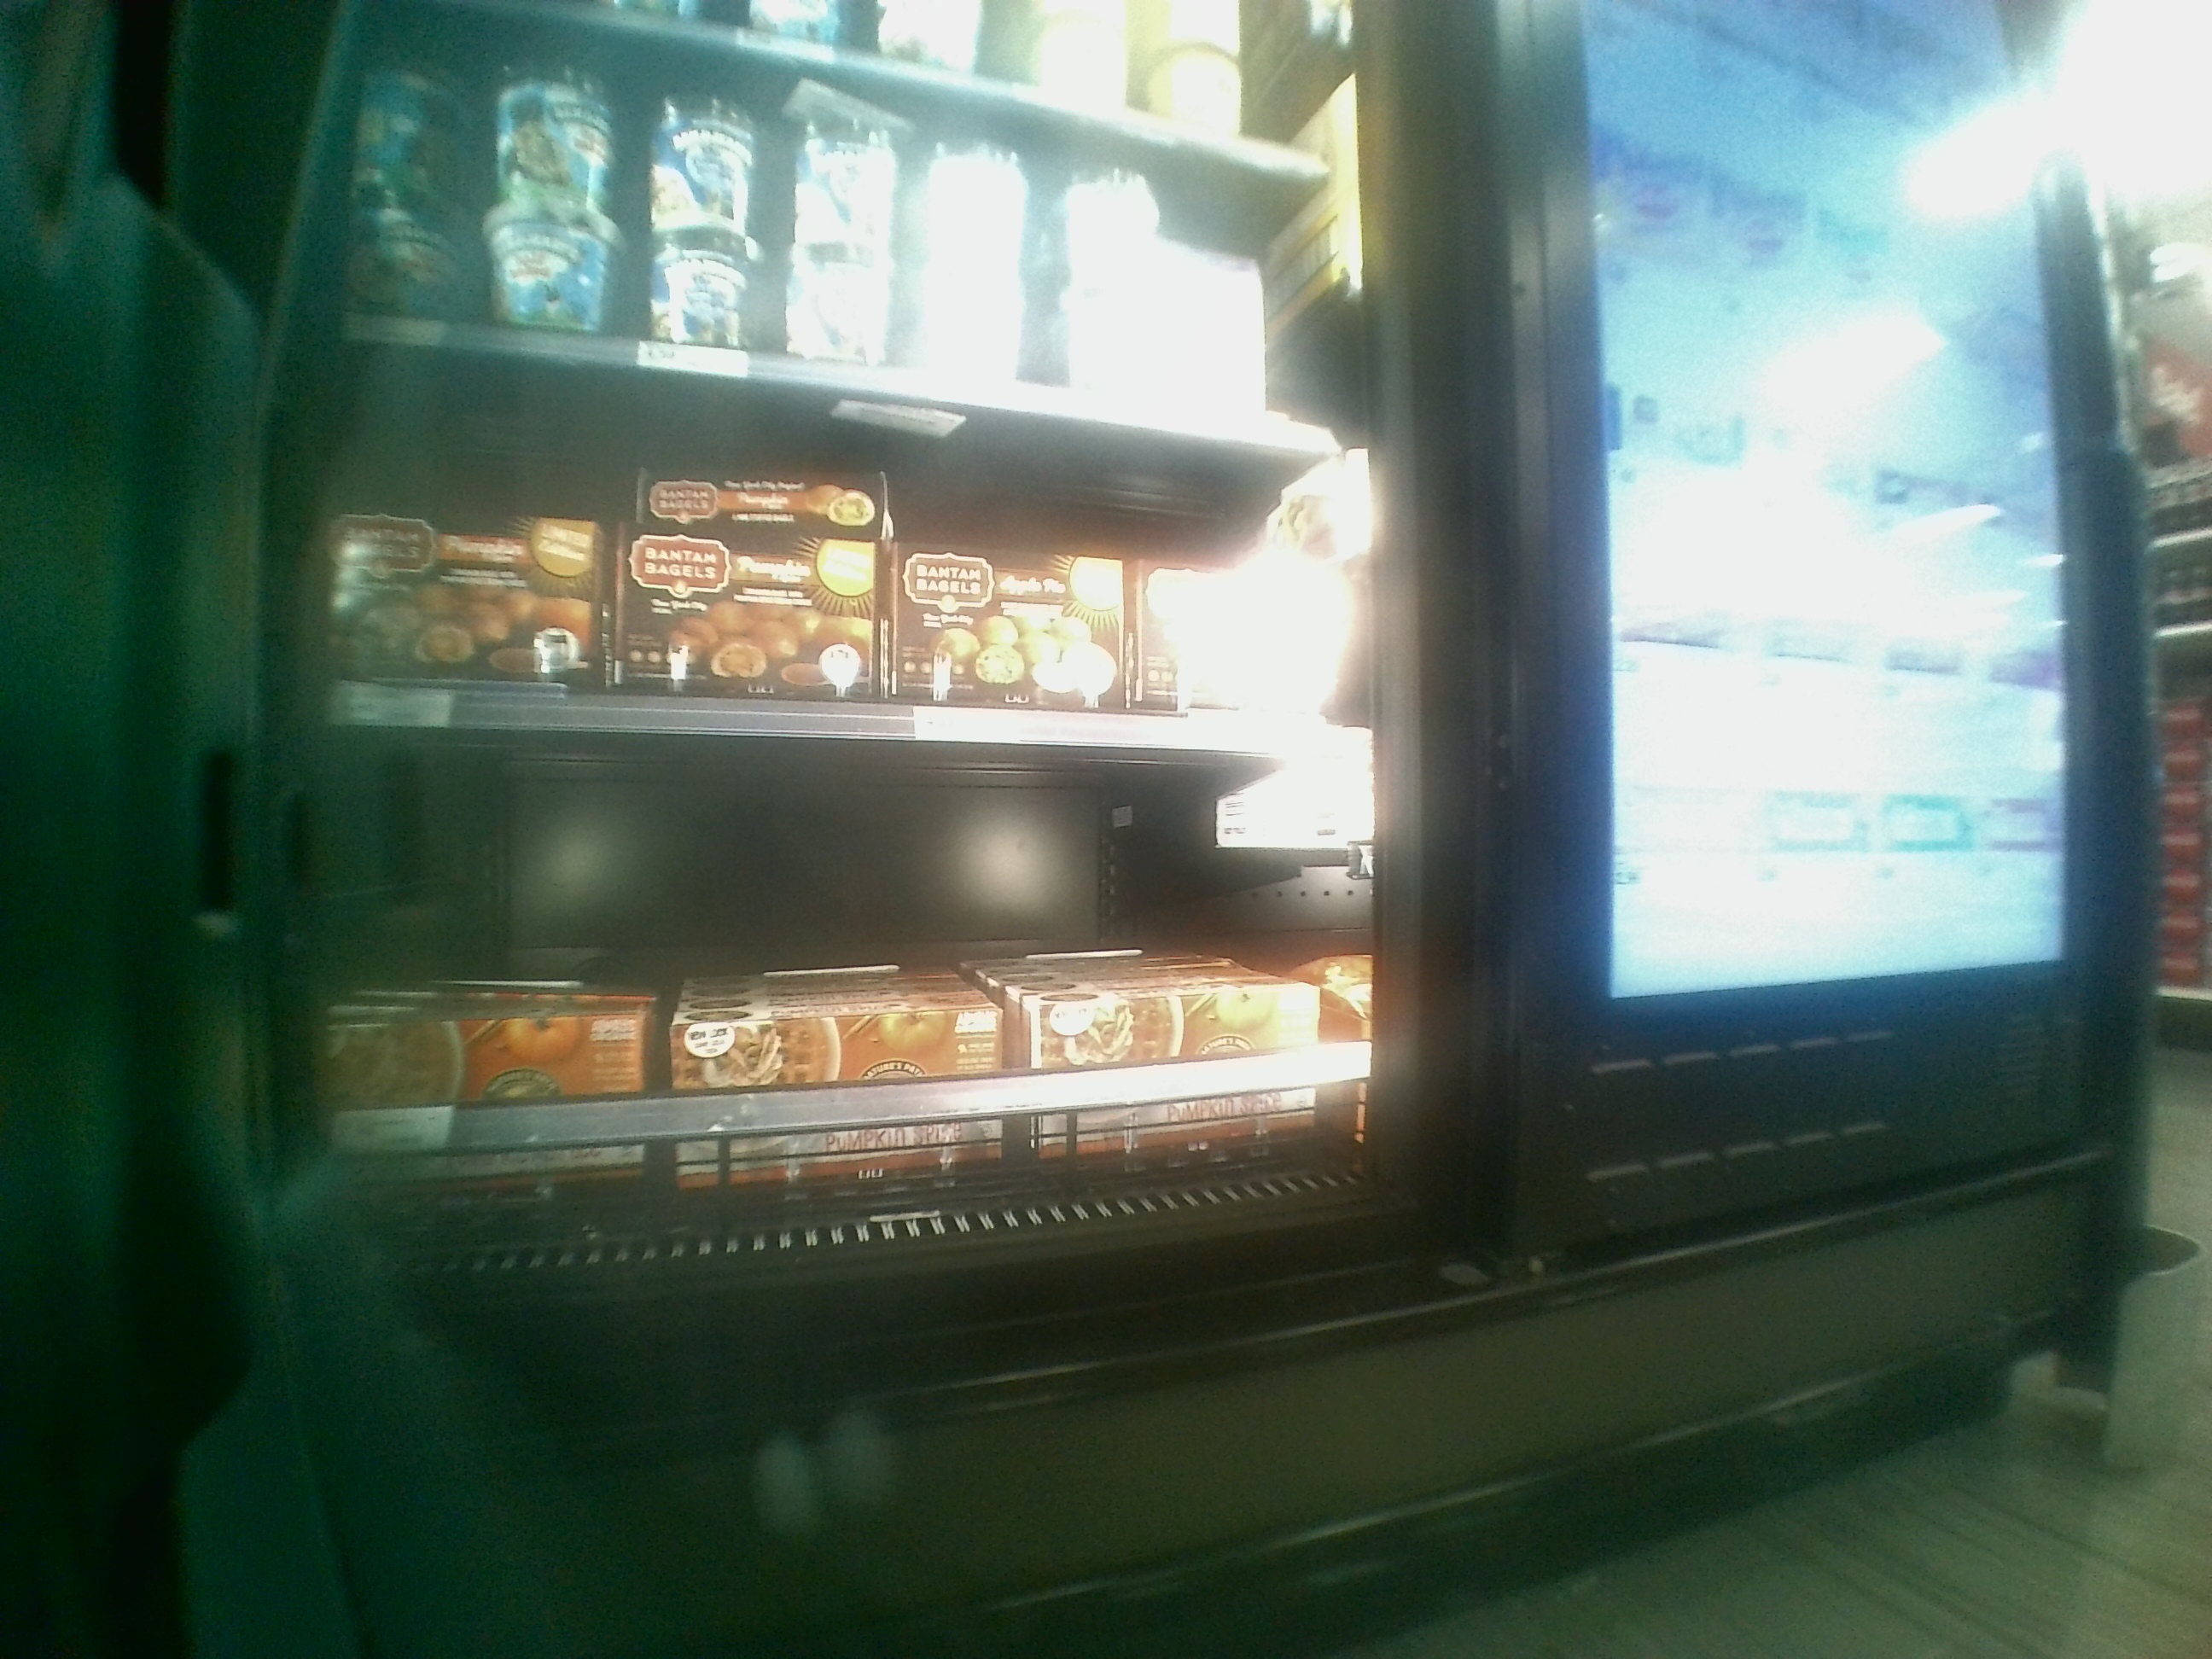shelf: (268, 735, 1433, 1270), (301, 342, 1399, 758)
